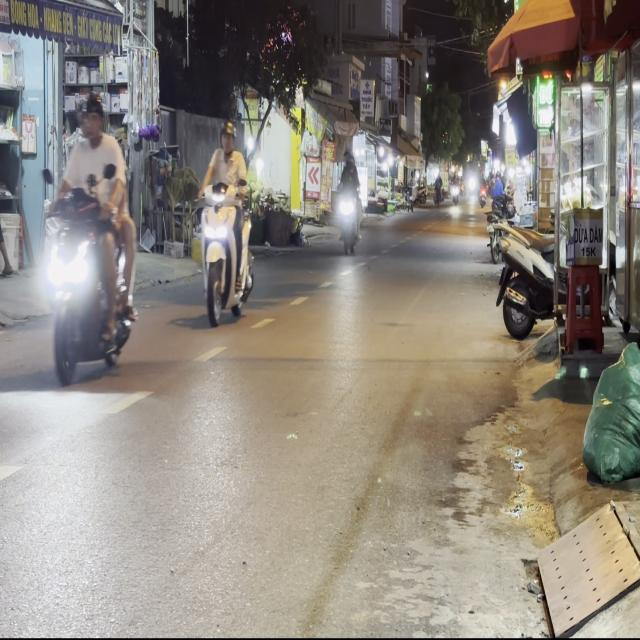helmet: (80, 92, 105, 140), (218, 120, 234, 152)
licenseplate: (40, 88, 139, 390), (195, 118, 255, 326)
